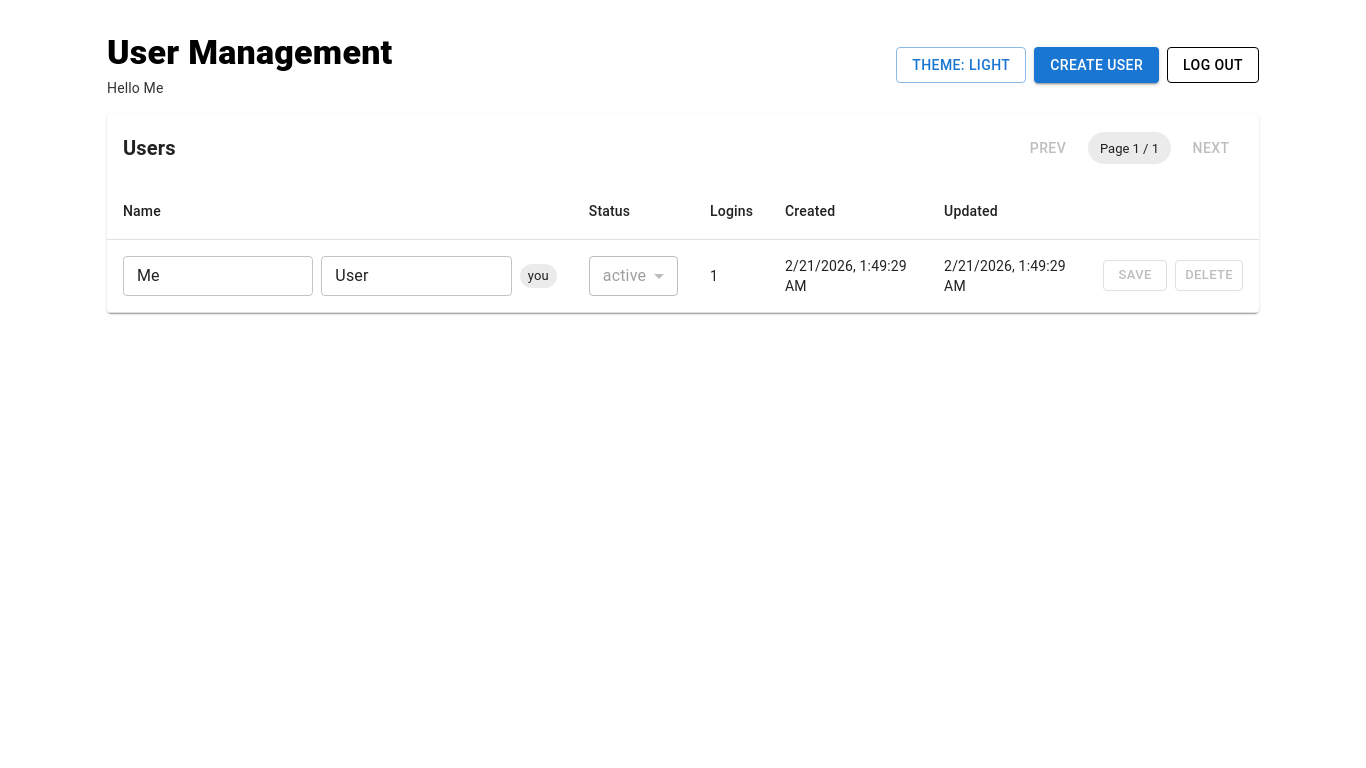
Test: Dashboard › creates user, resets form, refreshes list
Expected: the text "Hello Me" is shown, x1=107 y1=80 x2=164 y2=96
Click the button "Create user".
click(1097, 65)  # box x1=1034 y1=47 x2=1159 y2=83
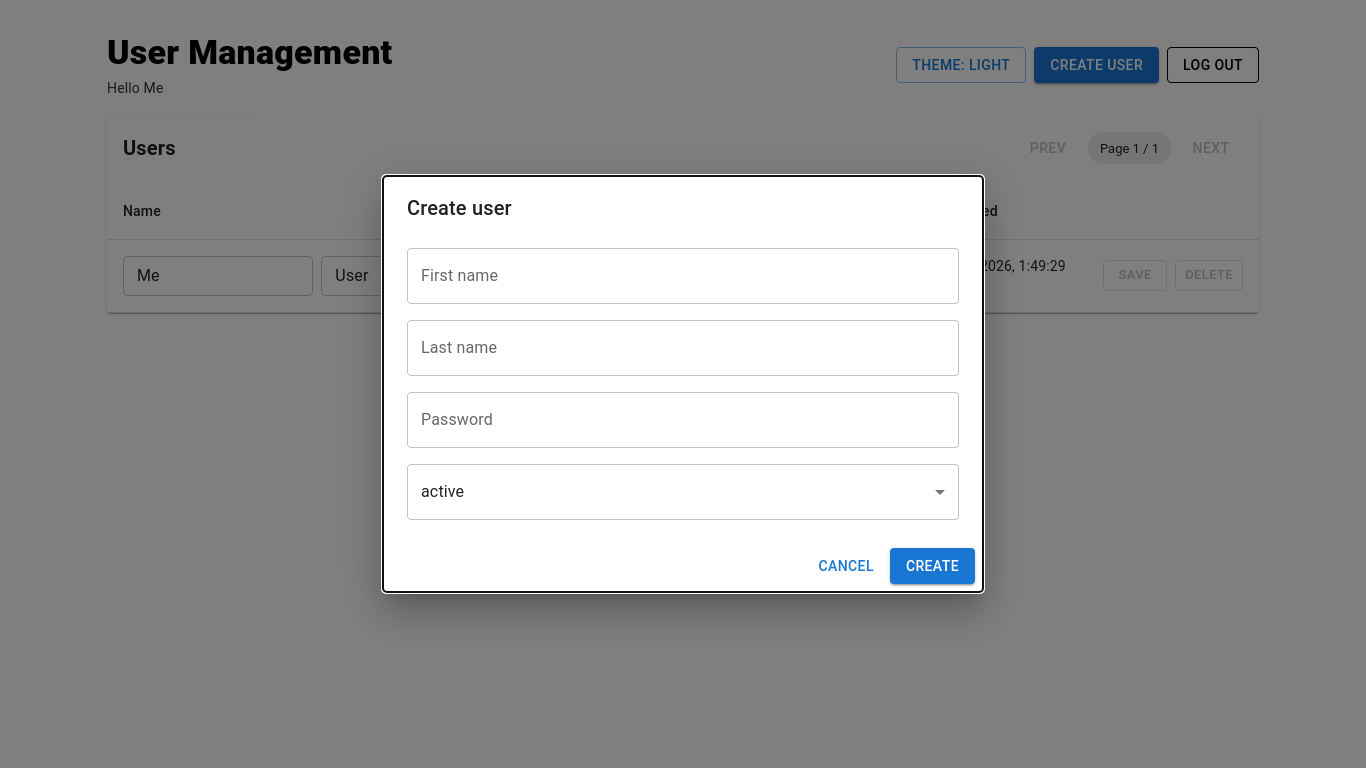
Type "Alice" into the field labelled "First name".
click(683, 276); type("Alice")  # box x1=407 y1=248 x2=959 y2=304
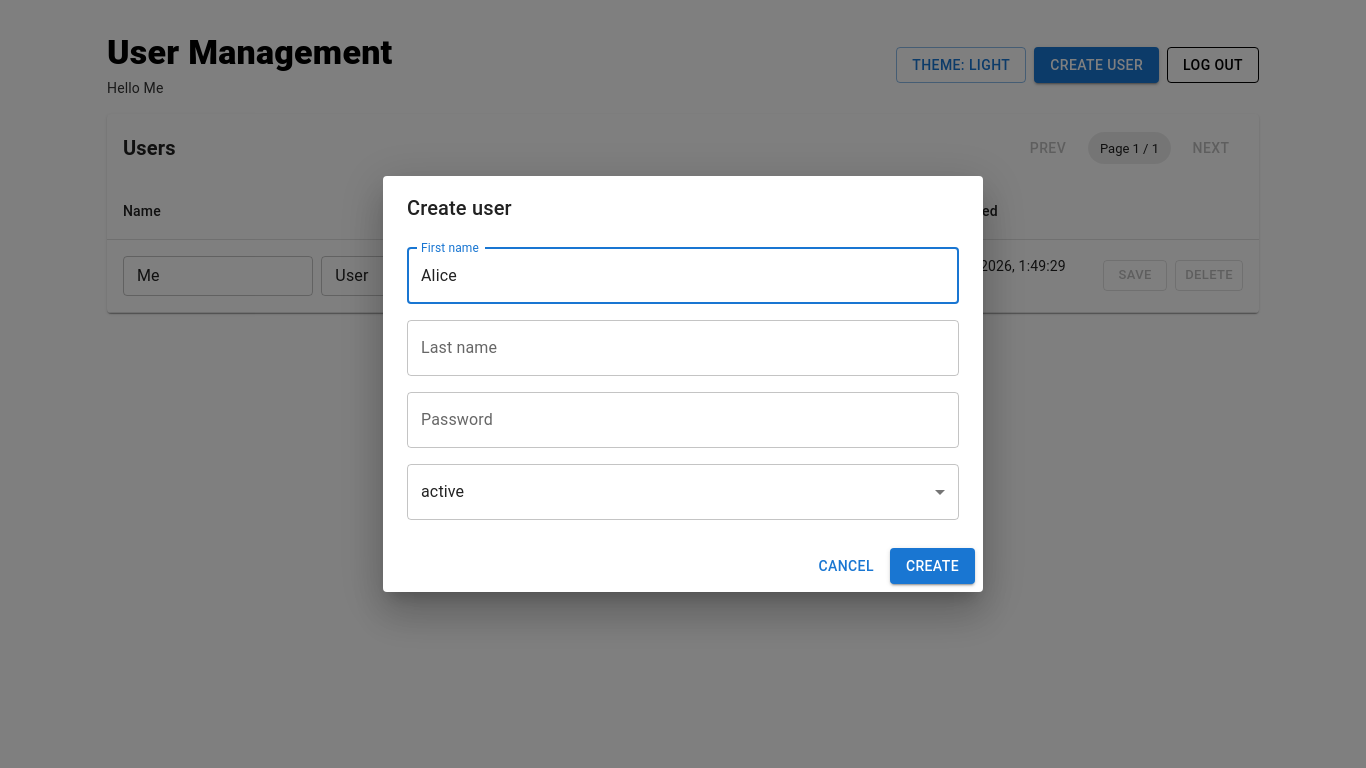
Type "Smith" into the field labelled "Last name".
click(683, 348); type("Smith")  # box x1=407 y1=320 x2=959 y2=376
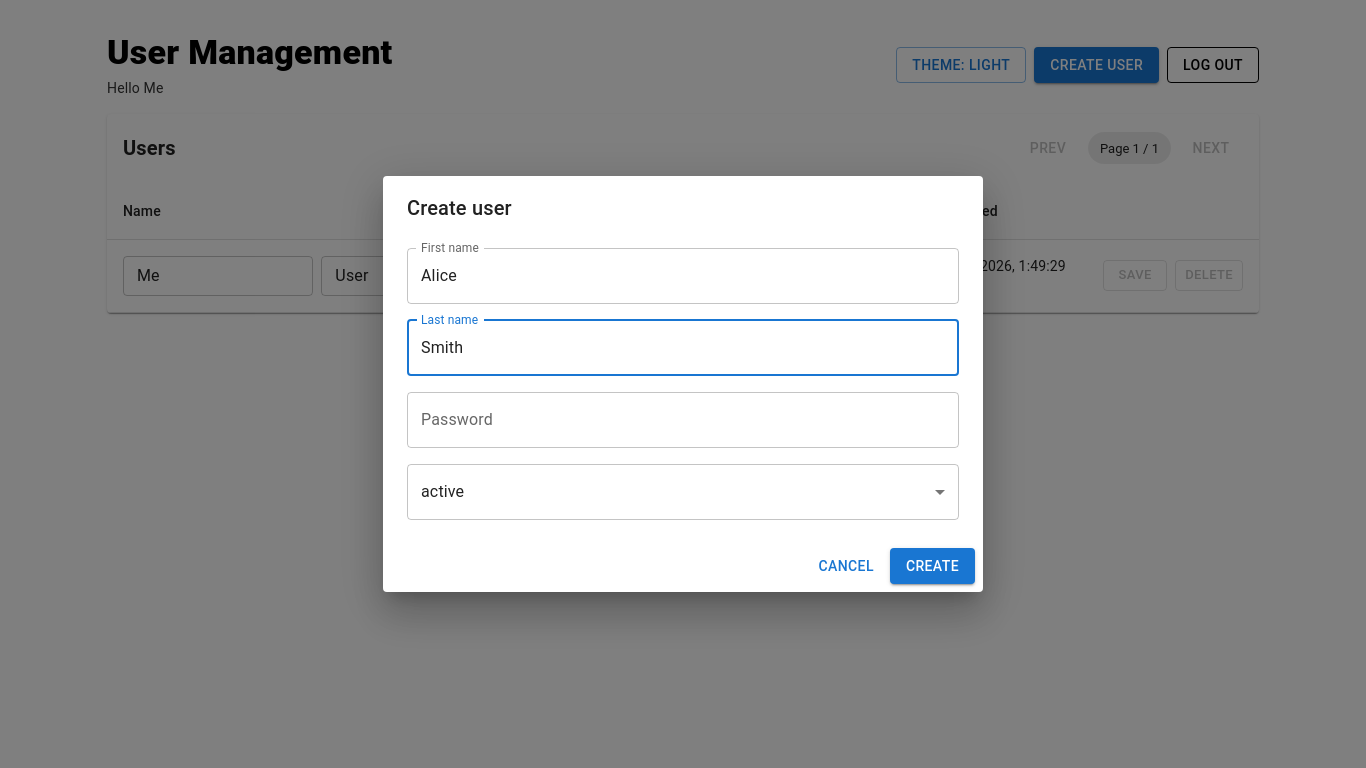
Type "pass123" into the password field labelled "Password".
click(683, 420); type("pass123")  # box x1=407 y1=392 x2=959 y2=448
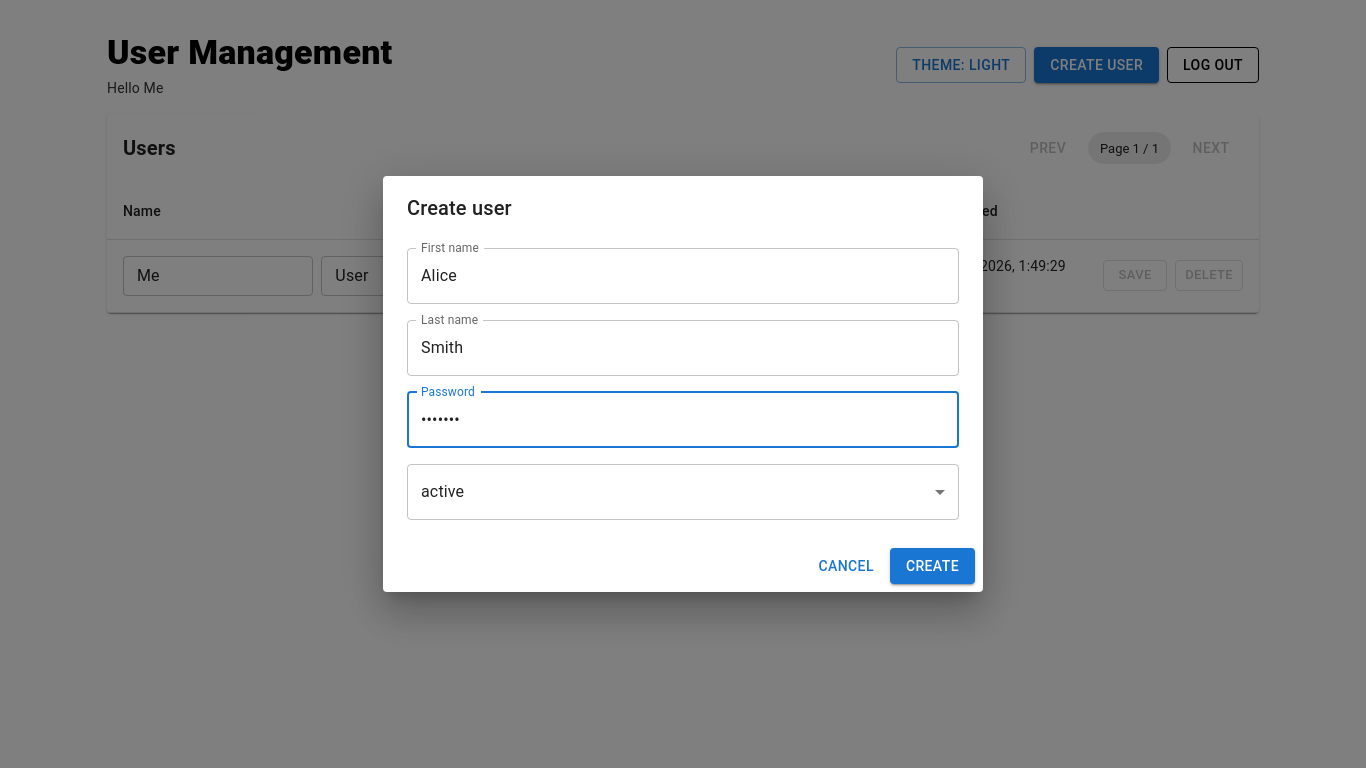
Click the button "Create".
click(932, 566)  # box x1=890 y1=548 x2=975 y2=584
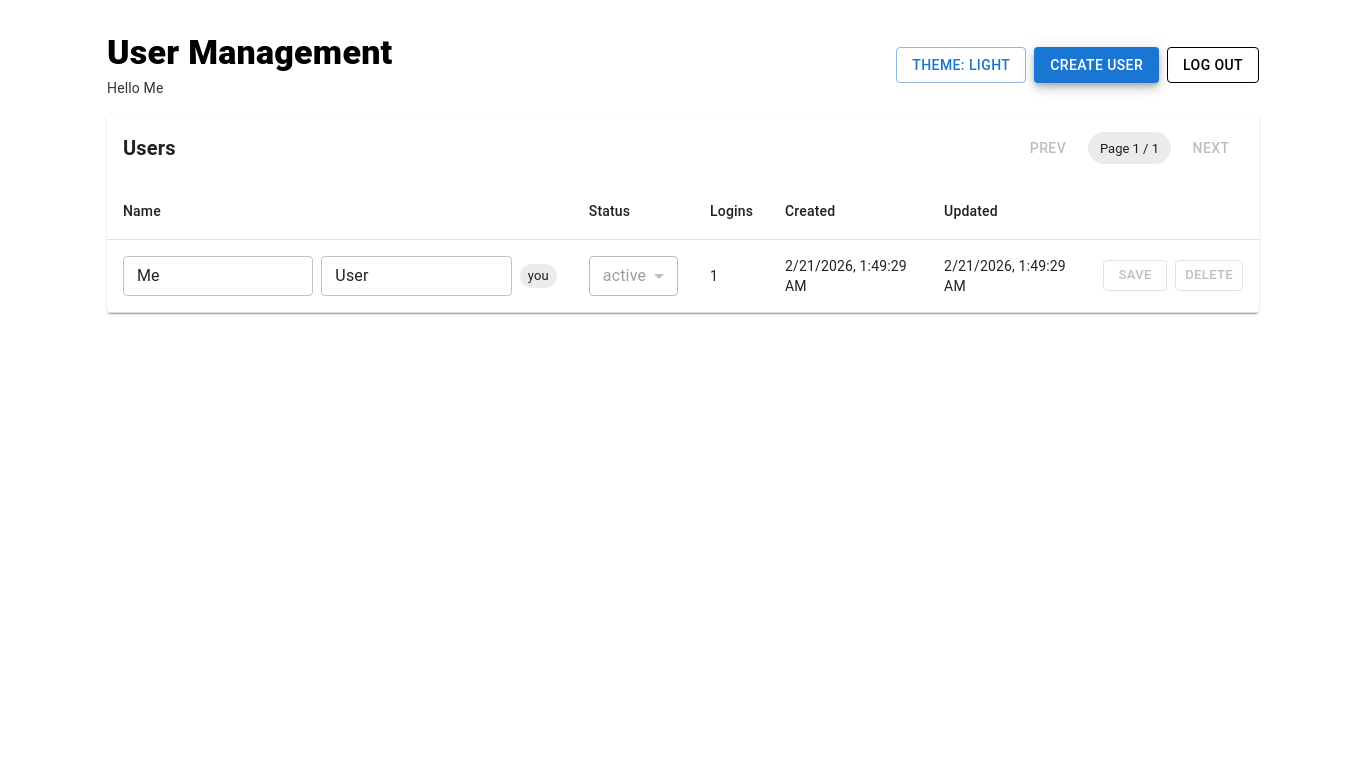
Result: the dialog is gone
